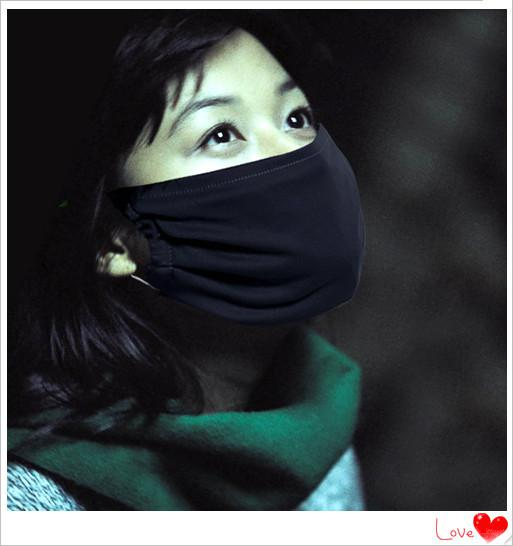OK: (125, 72, 366, 313)
